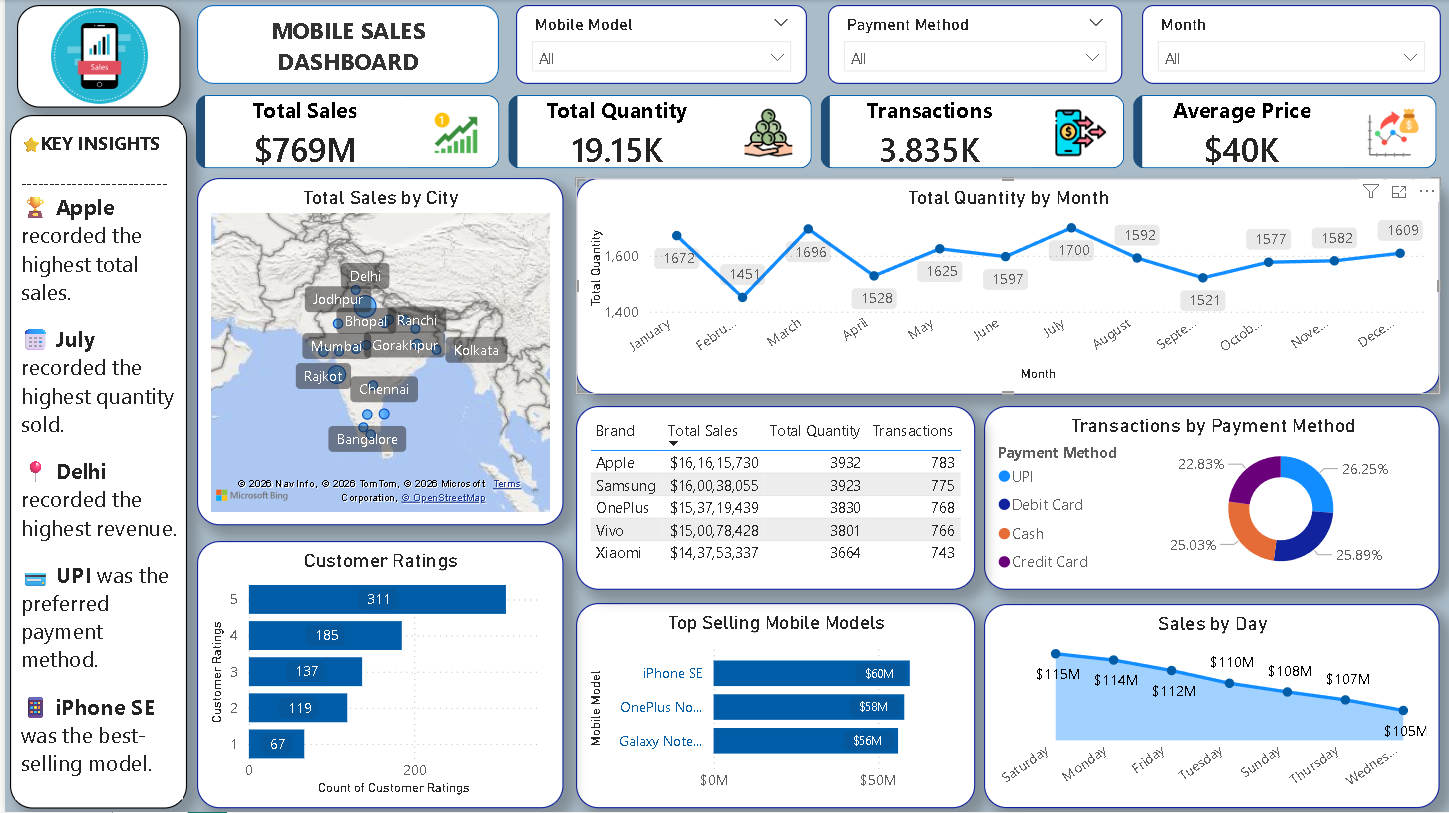

Layout of this report page (visuals, bound fields, positions):
{"tool":"powerbi","page":{"name":"Page 1","canvas":[1280,720],"ordinal":0},"visuals":[{"type":"shape","box":[10.9,4.5,145.5,90.9],"z":0},{"type":"image","box":[24.5,7.3,118.2,85.5],"z":1000},{"type":"shape","box":[4.5,101.8,157.3,614.5],"z":2000},{"type":"cardVisual","fields":{"Data":["sales_data.total_sales1","sales_data.total_quantity","sales_data.transactions","sales_data.total_sales"]},"box":[161.4,76.3,1119,81.6],"z":3000},{"type":"map","title":"Total Sales by City","fields":{"Category":["sales_data.City"],"Size":["sales_data.total_sales"]},"box":[170.2,157.8,324.5,307.7],"z":4000},{"type":"lineChart","title":"Total Quantity by Month","fields":{"Y":["sales_data.total_quantity"],"Category":["sales_data.DATE.Variation.Date Hierarchy.Month"]},"box":[506.3,157.8,766.1,191.5],"z":5000},{"type":"barChart","title":"Top Selling Mobile Models","fields":{"Category":["sales_data.Mobile Model"],"Y":["sales_data.total_sales"]},"box":[506.3,534.7,353.8,181.8],"z":6000},{"type":"donutChart","fields":{"Category":["sales_data.Payment Method"],"Y":["sales_data.transactions"]},"box":[868.1,360,404.3,163.2],"z":7000},{"type":"barChart","title":"Customer Ratings ","fields":{"Category":["sales_data.Customer Ratings"],"Y":["CountNonNull(sales data.Customer Ratings)"]},"box":[170.2,479.7,324.5,236.7],"z":8000},{"type":"areaChart","title":"Sales by Day","fields":{"Category":["sales data.Day Name"],"Y":["sales_data.total_sales"]},"box":[868.1,535.6,404.3,180.9],"z":9000},{"type":"tableEx","fields":{"Values":["sales_data.Brand","sales_data.total_sales","sales_data.total_quantity","sales_data.transactions"]},"box":[506.3,360,353.8,163.2],"z":10000},{"type":"slicer","fields":{"Values":["sales_data.Mobile Model"]},"box":[452.7,4.5,258.2,70],"z":11000},{"type":"slicer","fields":{"Values":["sales_data.Payment Method"]},"box":[729.8,4.4,260.7,70],"z":12000},{"type":"shape","box":[170.2,4.4,267.8,70],"z":13000},{"type":"slicer","fields":{"Values":["sales data.DATE.Variation.Date Hierarchy.Month"]},"box":[1008.2,4.5,264.5,70],"z":14000},{"type":"textbox","box":[9.1,110.9,149.1,598.2],"z":15001}]}

Visuals, with their boxes in screenshot pixels (x1, y1, x2, y2), scaled from the page's 1280x720 canvas onto the 1449x813 screenshot:
shape: bbox(12, 5, 177, 108)
image: bbox(28, 8, 162, 105)
shape: bbox(5, 115, 183, 809)
cardVisual - sales_data.total_sales1 x sales_data.total_quantity: bbox(183, 86, 1448, 178)
"Total Sales by City" map: bbox(193, 178, 560, 526)
"Total Quantity by Month" lineChart: bbox(573, 178, 1440, 394)
"Top Selling Mobile Models" barChart: bbox(573, 604, 974, 809)
donutChart - sales_data.Payment Method x sales_data.transactions: bbox(983, 406, 1440, 591)
"Customer Ratings " barChart: bbox(193, 542, 560, 809)
"Sales by Day" areaChart: bbox(983, 605, 1440, 809)
tableEx - sales_data.Brand x sales_data.total_sales: bbox(573, 406, 974, 591)
slicer - sales_data.Mobile Model: bbox(512, 5, 805, 84)
slicer - sales_data.Payment Method: bbox(826, 5, 1121, 84)
shape: bbox(193, 5, 496, 84)
slicer - sales data.DATE.Variation.Date Hierarchy.Month: bbox(1141, 5, 1441, 84)
textbox: bbox(10, 125, 179, 801)
